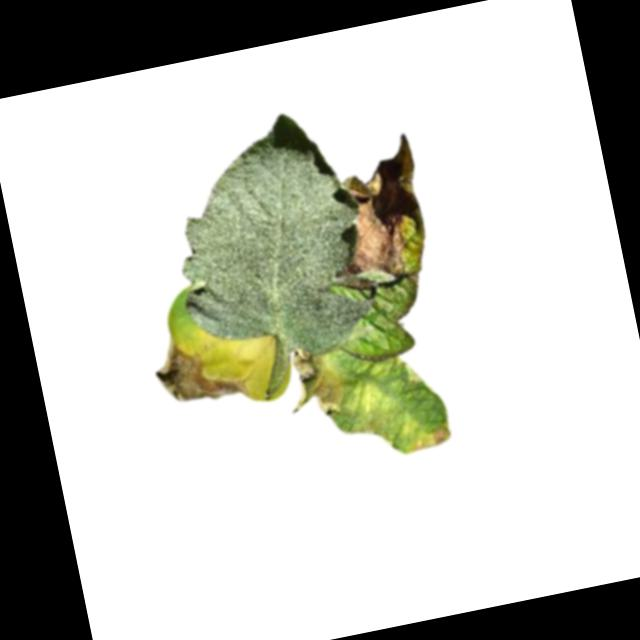Late_blight: (332, 168, 414, 290), (147, 326, 252, 415), (277, 341, 352, 425), (405, 422, 454, 455)
